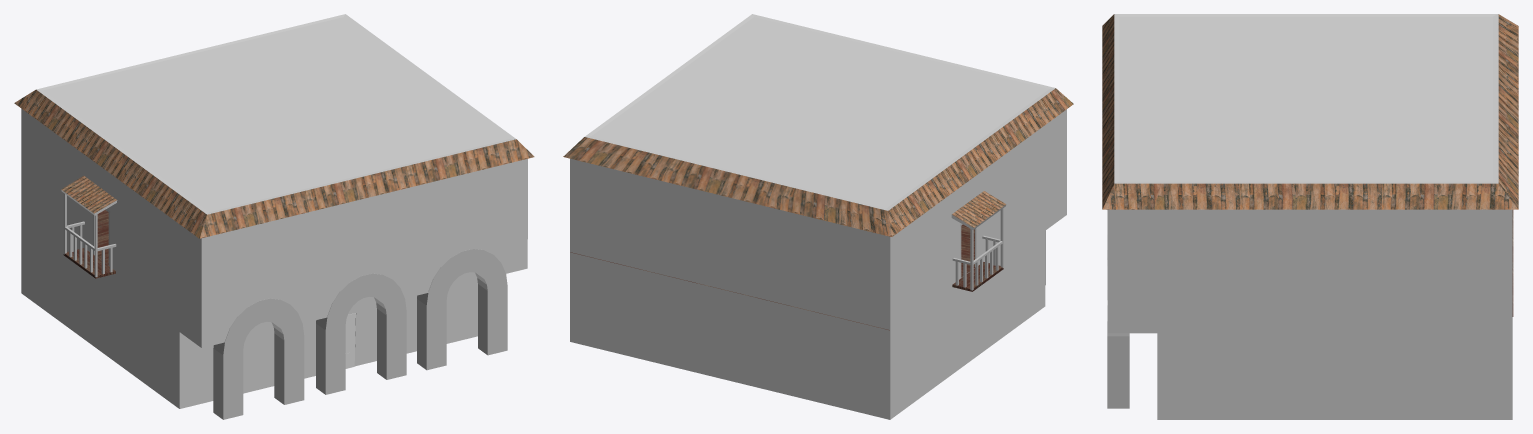
The model's file is balc_int.fbx.
The picture shows the model from 3 angles, left to right: view 1: azimuth 30°, elevation 25°; view 2: azimuth 150°, elevation 25°; view 3: azimuth 270°, elevation 25°; orthographic projection. The views are drawn at different scales.
Parts seen in each view (by area): view 1: Cube; view 2: Cube; view 3: Cube.
Boxes of the visible parts, x1,y1,x2,y2 form: Cube: (14, 14, 534, 419); Cube: (563, 14, 1073, 419); Cube: (1102, 14, 1518, 419).
Bounding box in the file's own units: 869 × 485 × 789.
